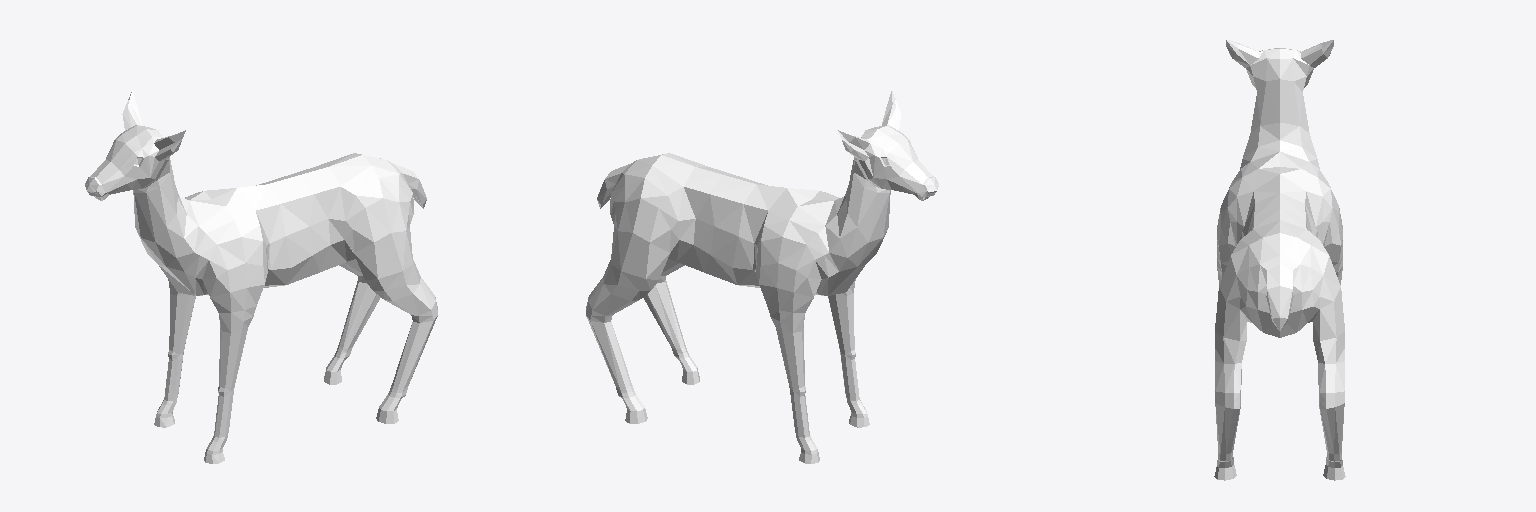
The model's file is deer2.obj.
3 renders of one model, left to right at view 1: azimuth 30°, elevation 25°; view 2: azimuth 150°, elevation 25°; view 3: azimuth 270°, elevation 25°, orthographic.
Visible parts, largest first — view 1: deer_2_Mesh.008; view 2: deer_2_Mesh.008; view 3: deer_2_Mesh.008.
Boxes of the visible parts, <box> form: deer_2_Mesh.008: <box>85,91,437,463</box>; deer_2_Mesh.008: <box>586,91,938,463</box>; deer_2_Mesh.008: <box>1214,40,1345,480</box>.
Bounding box in the file's own units: 1.17 × 1.12 × 0.394.